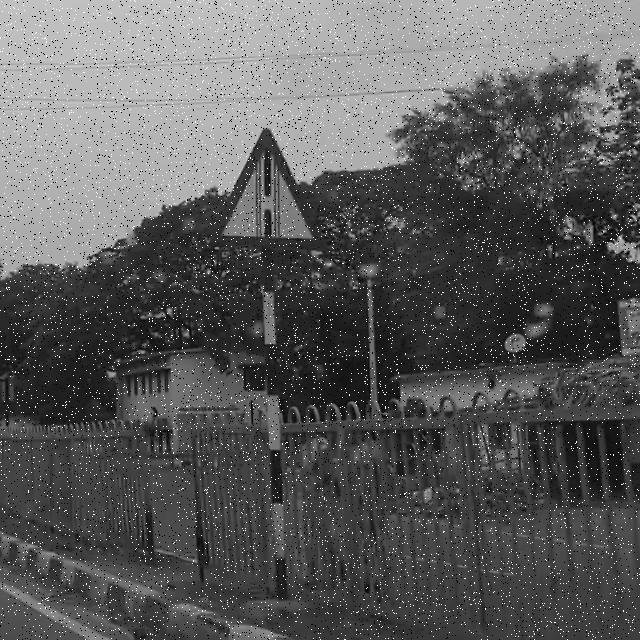gap_in_median: (213, 129, 331, 250)
